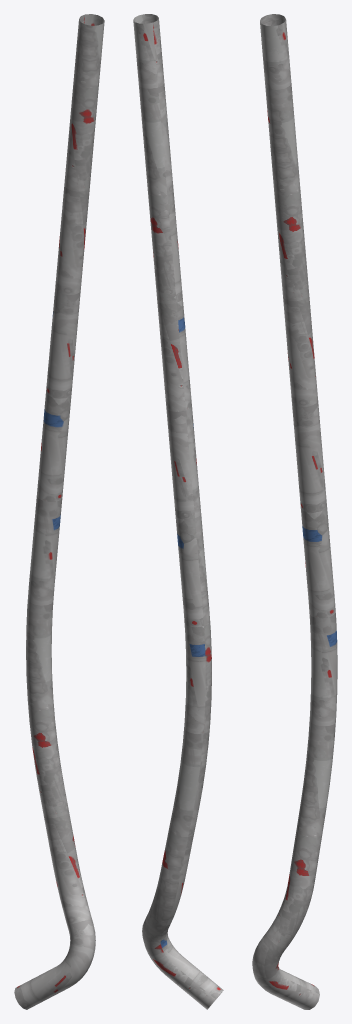
Rendered from Pipe__4.fbx.
3 renders of one model, left to right at view 1: azimuth 30°, elevation 25°; view 2: azimuth 210°, elevation 25°; view 3: azimuth 270°, elevation 25°, orthographic. The views are drawn at different scales.
Parts seen in each view (by area): view 1: MAT_Pipe_01; view 2: MAT_Pipe_01; view 3: MAT_Pipe_01.
Boxes of the visible parts, <box> form: MAT_Pipe_01: <box>14,14,104,1009</box>; MAT_Pipe_01: <box>133,14,223,1009</box>; MAT_Pipe_01: <box>252,14,337,1009</box>.
Bounding box in the file's own units: 1.42 × 18.68 × 1.42.
Materials: 1 (1 with a texture image).
